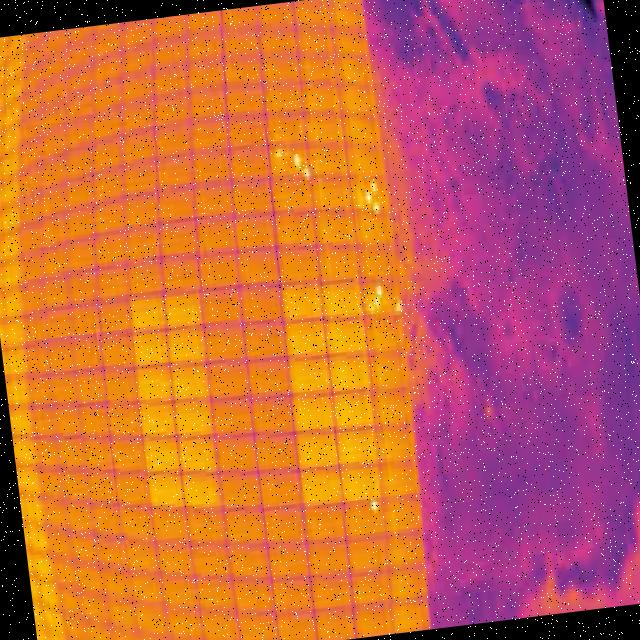Hotspot: (368, 498, 380, 514), (394, 295, 403, 315), (373, 298, 383, 314), (370, 201, 382, 214), (299, 168, 311, 180), (370, 179, 378, 195), (273, 148, 283, 160), (291, 154, 301, 166), (362, 188, 372, 200), (374, 286, 384, 298), (368, 302, 378, 314)
